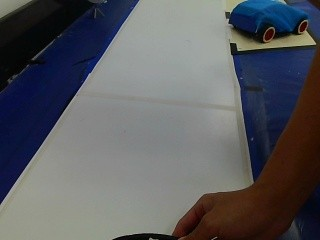car: (226, 0, 309, 49)
